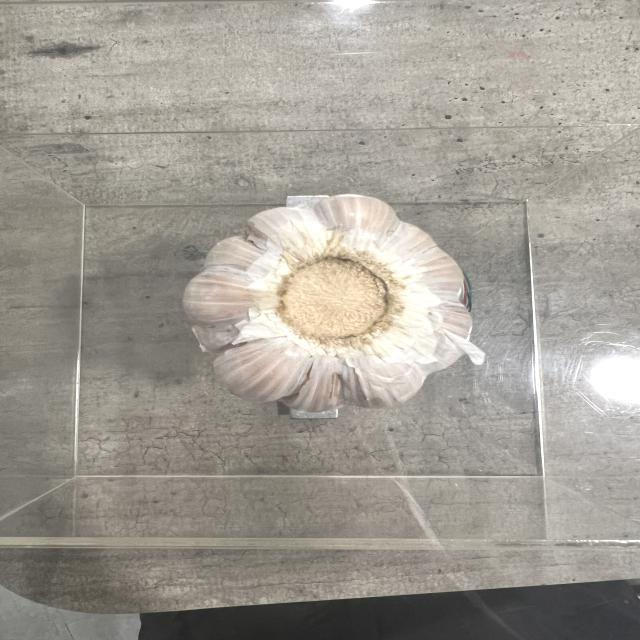garlic: (185, 196, 473, 411)
